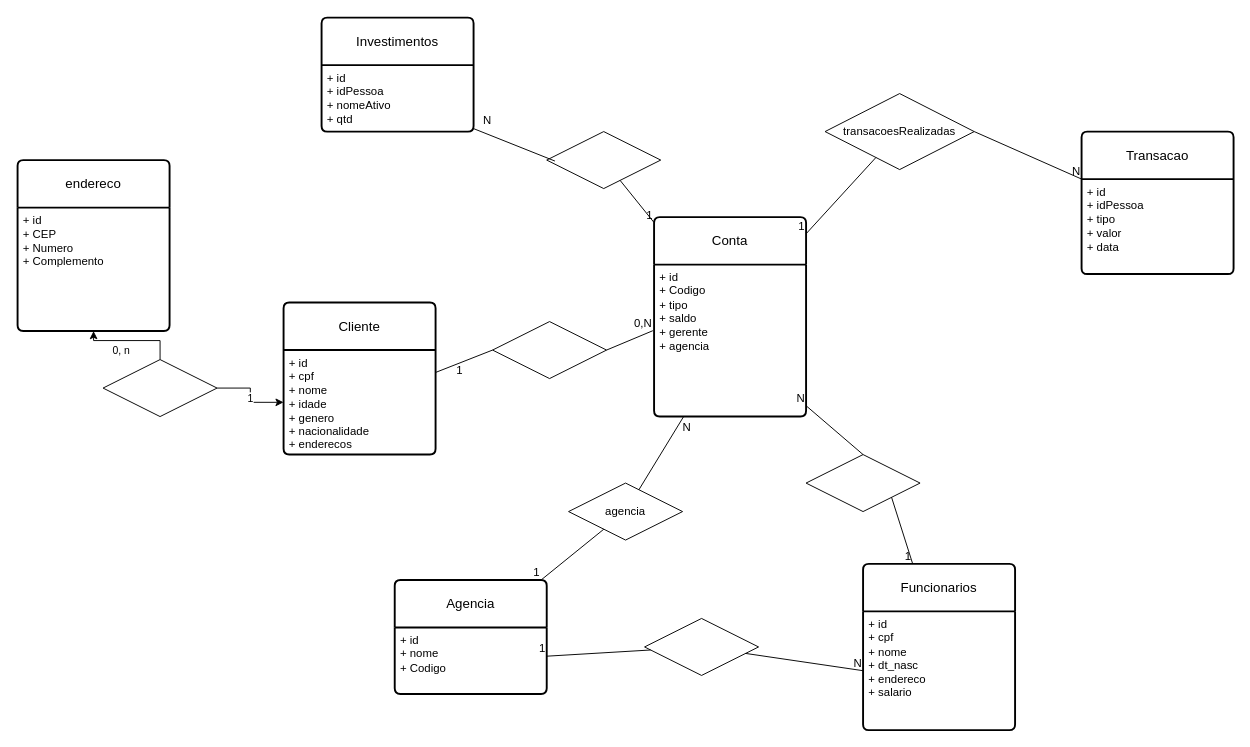
Image size: 1250x747. Some labels were removed from this diagram. The shapes that lost their labels are listed below. From the top down, each one's centre as x and y in pixels, then its label:
At (x=603, y=160): "Carteia de Investimentos".
At (x=549, y=350): "possui".
At (x=159, y=388): "possui endereco".
At (x=862, y=483): "gerente".
At (x=701, y=646): "Trabalha".
